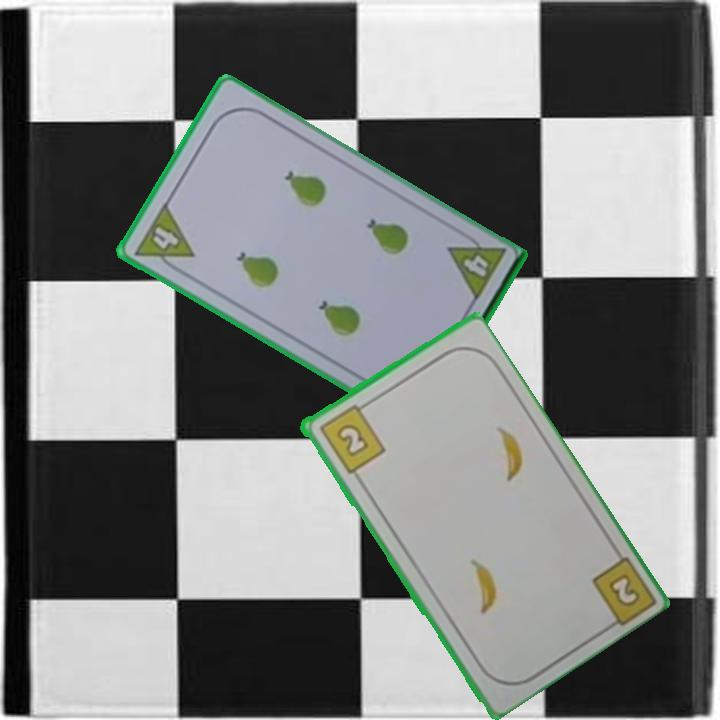2b: (315, 399, 388, 477), (604, 569, 643, 610)
4p: (130, 199, 197, 278), (444, 227, 508, 305)
